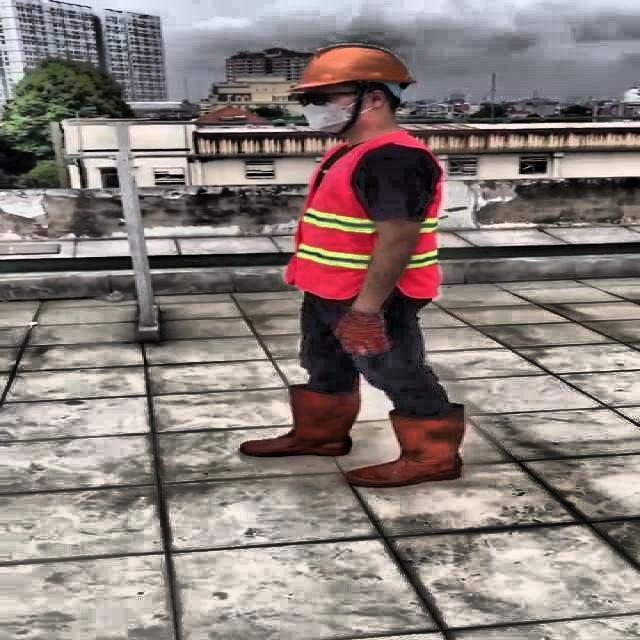safety_helmet: (286, 43, 418, 92)
safety_jacket: (291, 133, 441, 299)
